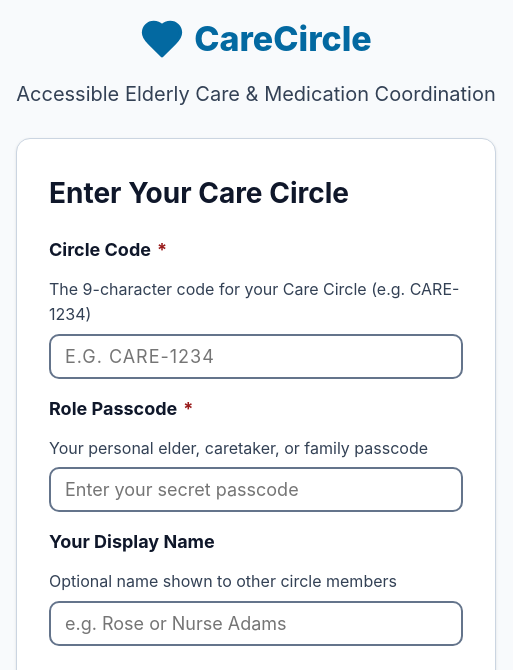
LoginPage & Login Form Testing › displays accessible error message when login fails
Type "WRONG" into the field labelled "Circle Code *" at [256, 356], box left=49, top=334, right=463, bottom=379
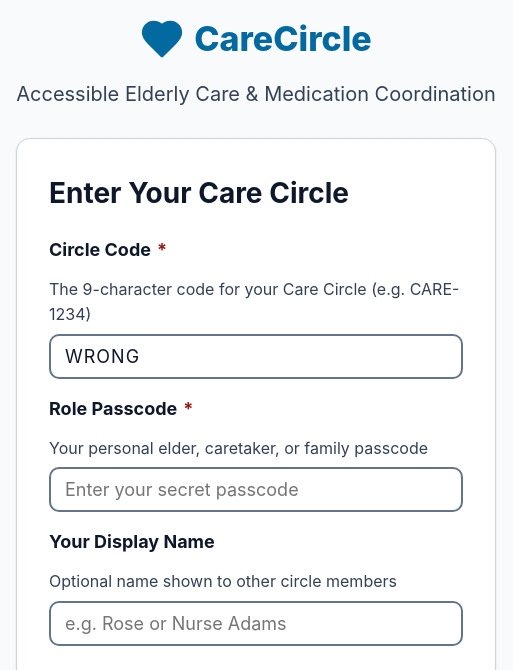
Type "wrongpass" into the password field labelled "Role Passcode *" at [256, 490], box left=49, top=467, right=463, bottom=512
(page scrolled)
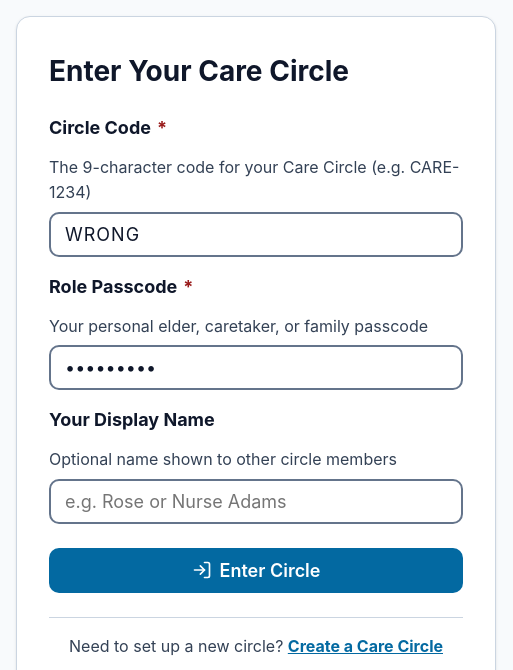
Click the button "Enter Circle" at [256, 570], box left=49, top=548, right=463, bottom=592
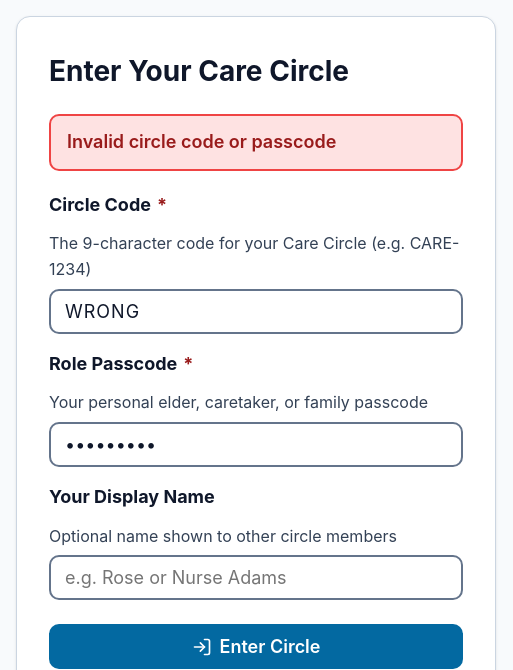
Now the message "Invalid circle code or passcode" is shown, box left=49, top=114, right=463, bottom=171
Now the message reads "Invalid circle code or passcode", box left=67, top=131, right=336, bottom=152
